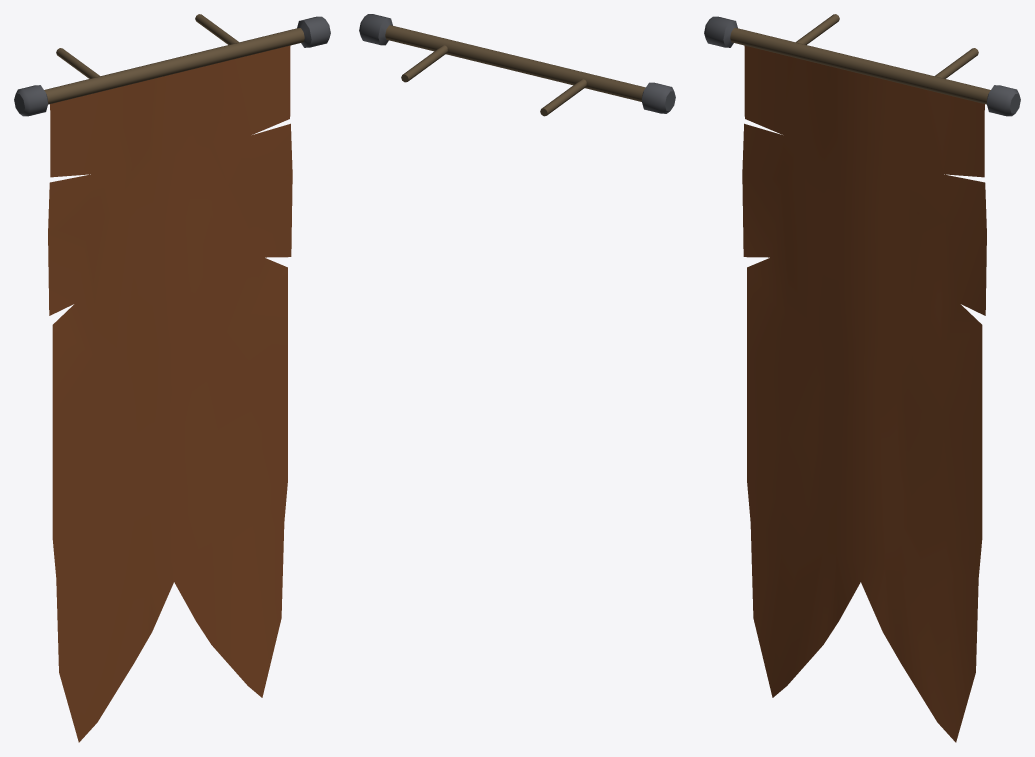
Rendered from Flag_Wall2.glb.
3 views of the same model, side by side, from view 1: azimuth 30°, elevation 25°; view 2: azimuth 150°, elevation 25°; view 3: azimuth 330°, elevation 25° (orthographic).
Visible parts, largest first — view 1: Flag, Wood, Metal; view 2: Wood, Metal; view 3: Flag, Wood, Metal.
Part boxes in pixels (x1=…): Flag: x1=48, y1=45, x2=292, y2=742; Wood: x1=44, y1=14, x2=304, y2=104; Metal: x1=14, y1=16, x2=330, y2=116; Wood: x1=385, y1=25, x2=645, y2=116; Metal: x1=359, y1=14, x2=675, y2=113; Flag: x1=742, y1=45, x2=986, y2=742; Wood: x1=730, y1=14, x2=990, y2=104; Metal: x1=704, y1=16, x2=1020, y2=116.
Size of the model in its own units: 1.13 by 2.35 by 0.3224.
